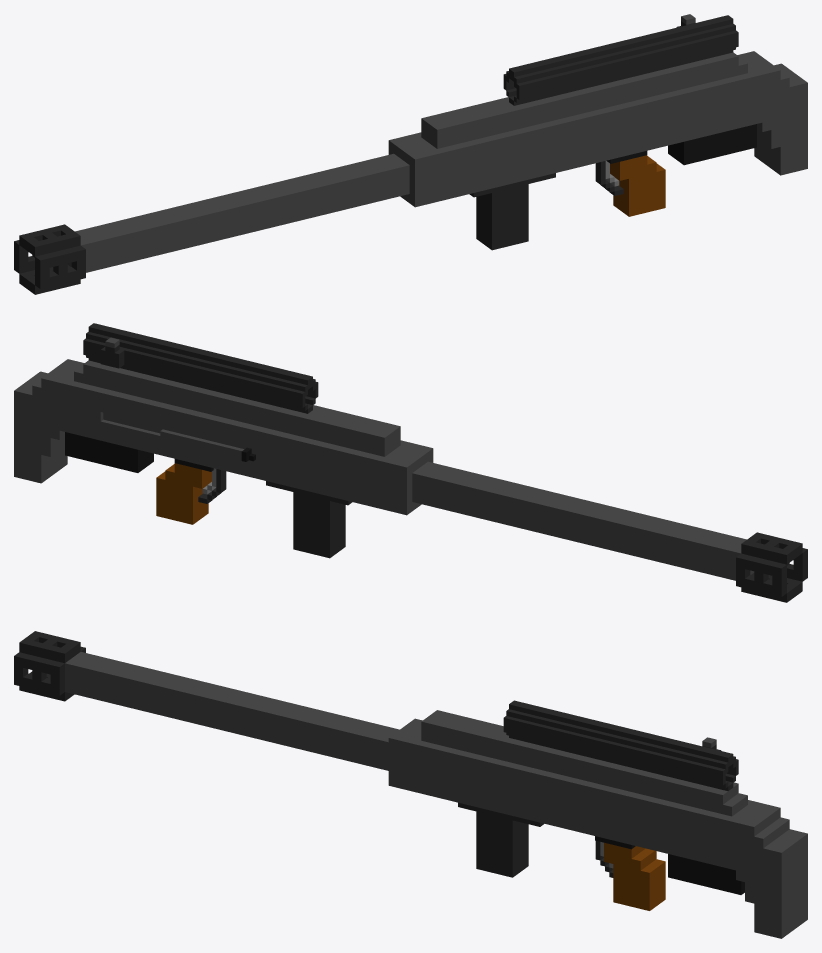
File: WSN.obj
3 views of the same model, one above another, from view 1: azimuth 30°, elevation 25°; view 2: azimuth 150°, elevation 25°; view 3: azimuth 330°, elevation 25° (orthographic).
Size of the model in its own units: 16.8 by 3.5 by 1.2.
1 material, 1 textured.
